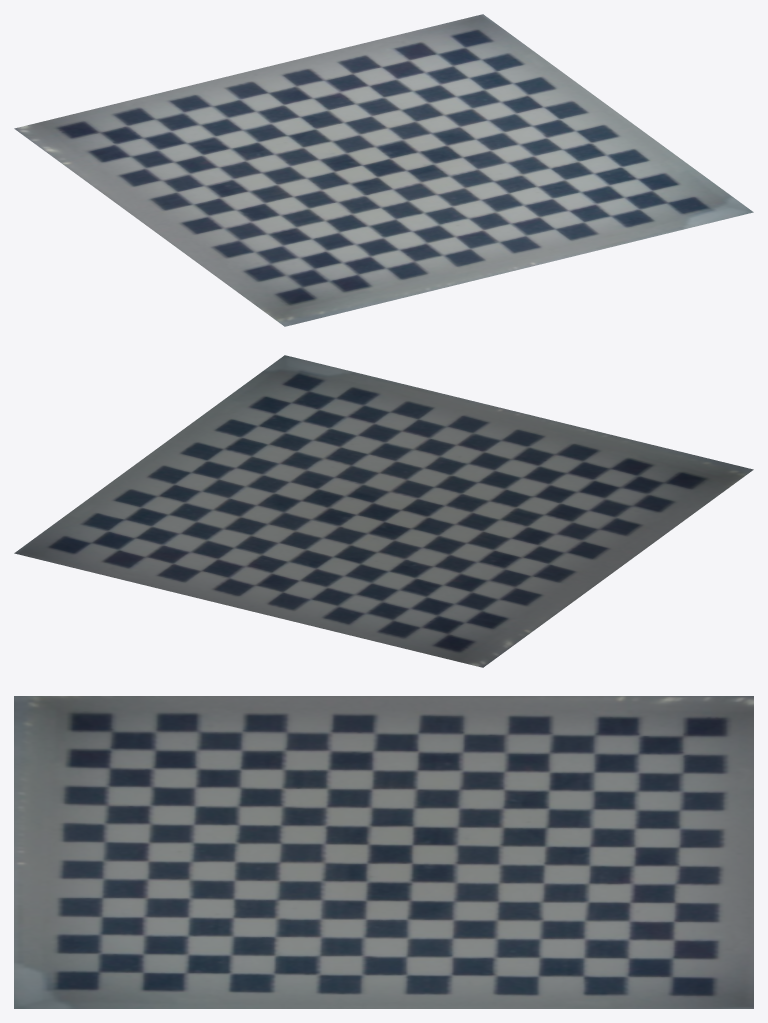
File: surface_texture_refract.obj
3 views of the same model, one above another, from view 1: azimuth 30°, elevation 25°; view 2: azimuth 150°, elevation 25°; view 3: azimuth 270°, elevation 25° (orthographic). The views are drawn at different scales.
Parts seen in each view (by area): view 1: surface_texture; view 2: surface_texture; view 3: surface_texture.
Part boxes in pixels (<box>): surface_texture: <box>14,14,753,326</box>; surface_texture: <box>14,355,753,667</box>; surface_texture: <box>14,696,753,1008</box>.
Bounding box in the file's own units: 26 × 0 × 26.
Materials: 1 (1 with a texture image).
